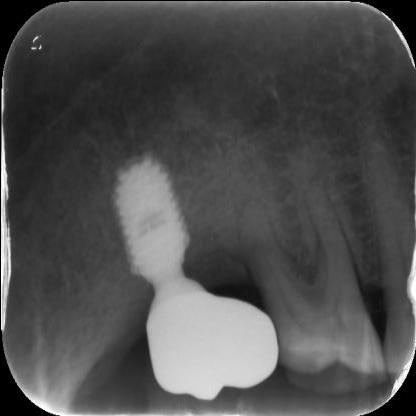Bicon: (102, 153, 200, 287)
